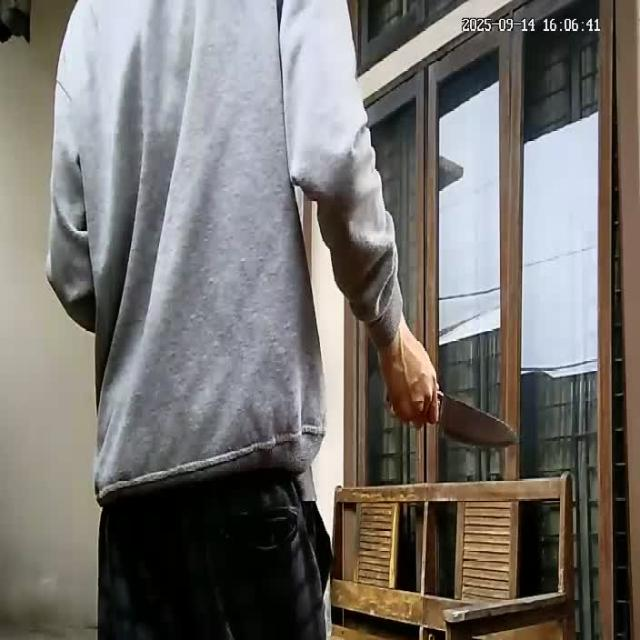senjata_tajam: (435, 392, 524, 450)
